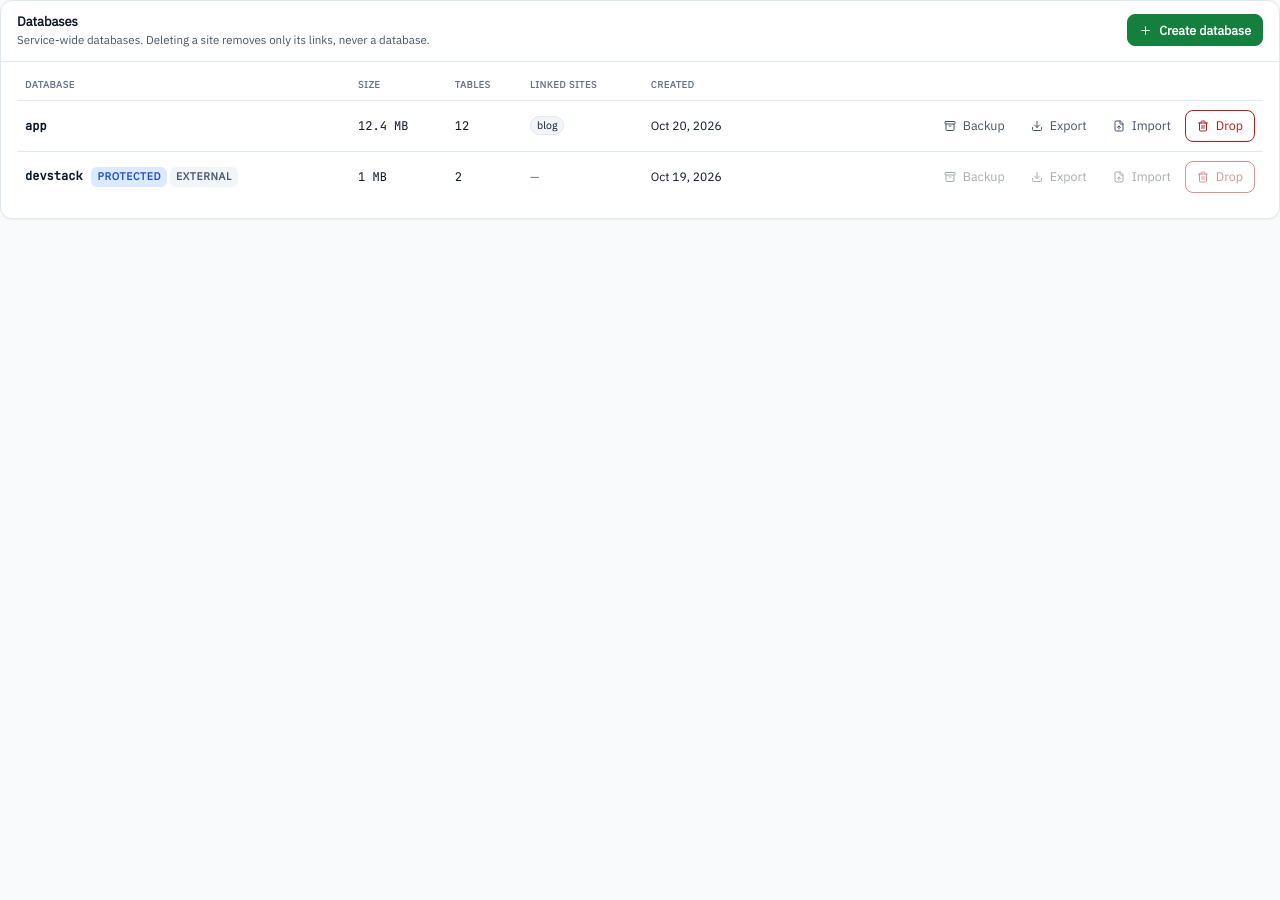
Test case: DatabaseTab › requires linked sites to be stopped before dropping
Click the button with aria-label "drop app": (1220, 126) top-left (1185, 110), bottom-right (1255, 142)
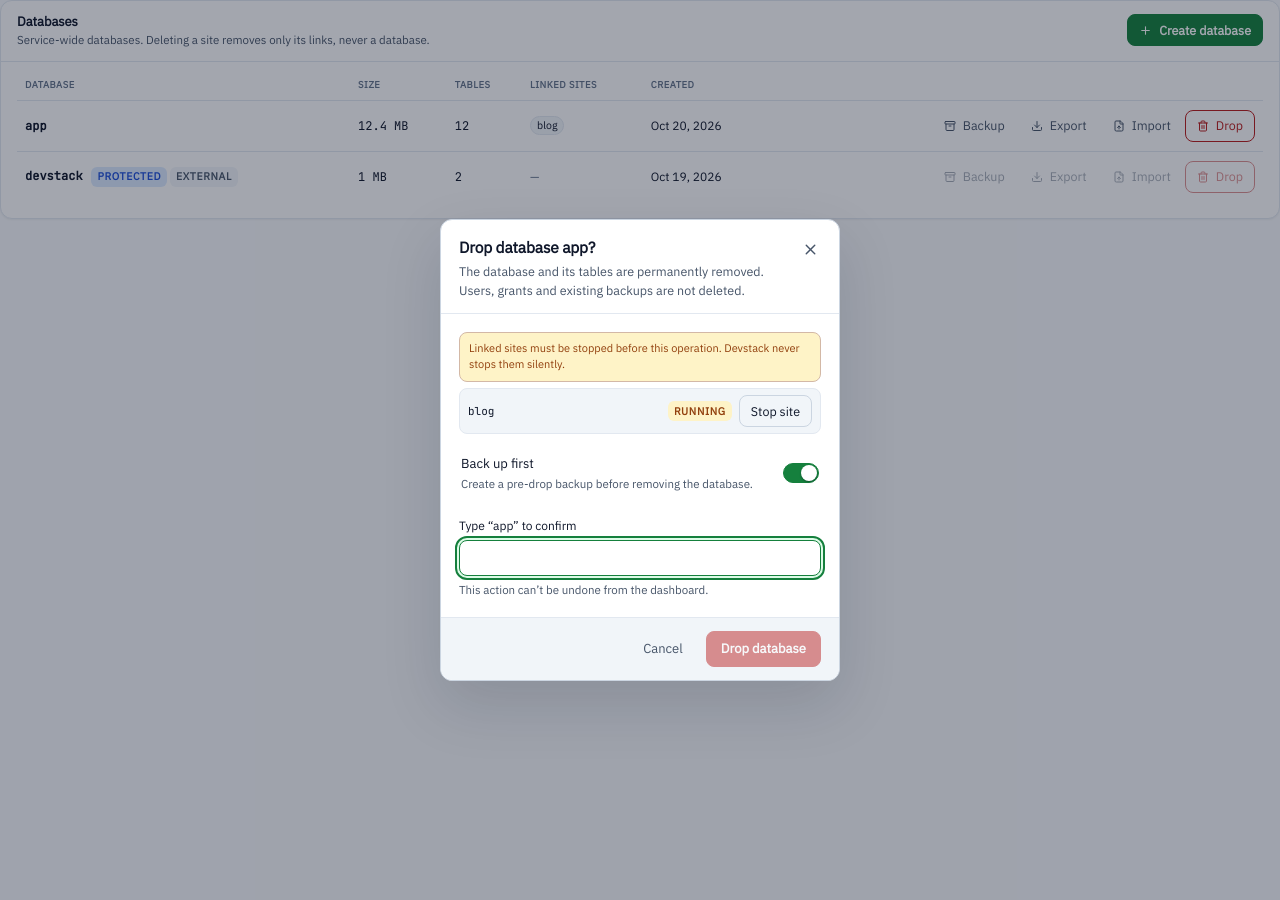
Expected: the text "blog" is shown, top-left (468, 404), bottom-right (494, 418)
In the field labelled "Type “app” to confirm": (640, 558) top-left (459, 540), bottom-right (821, 576), type "app"
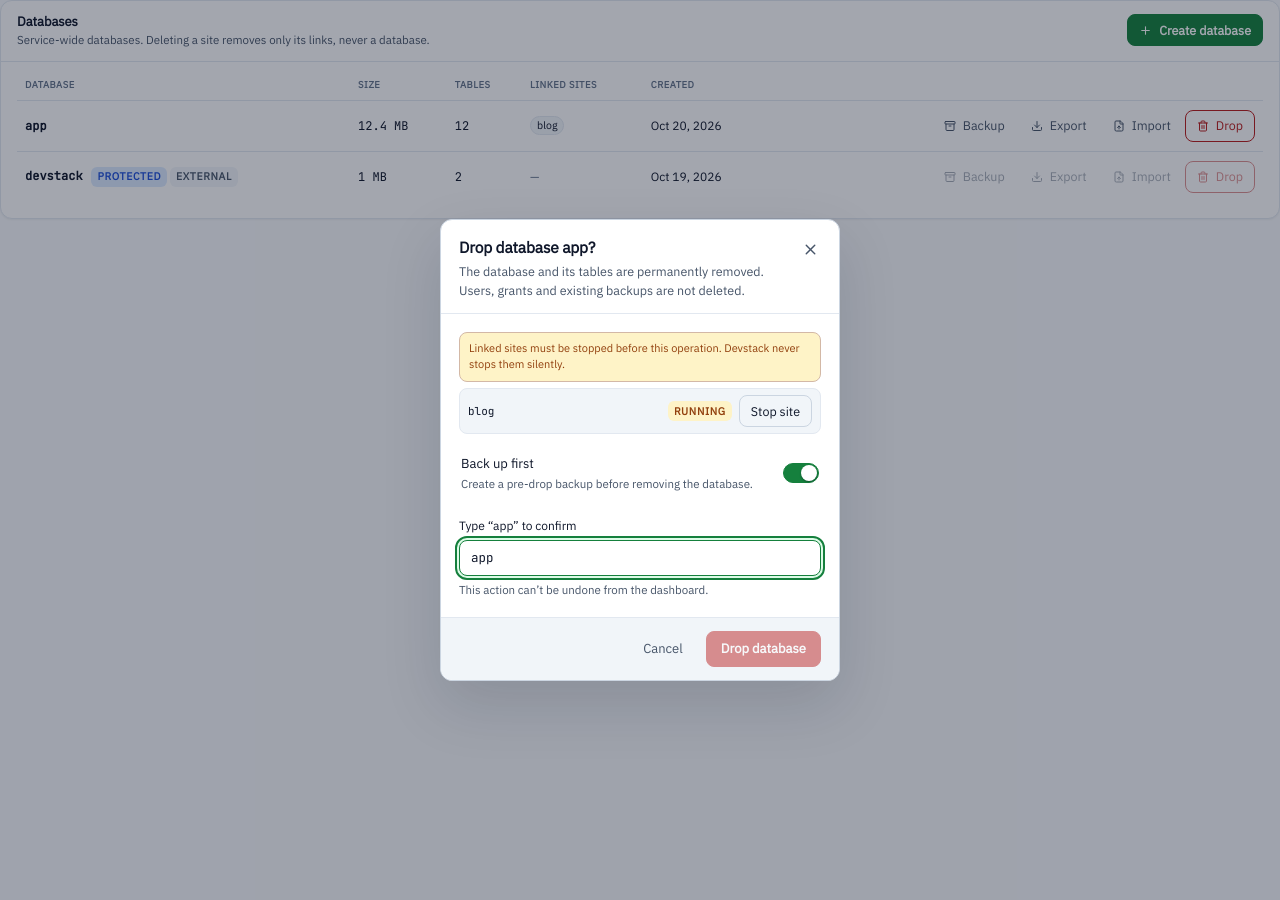
Expected: the button "Drop database" is disabled, top-left (706, 631), bottom-right (821, 667)
Click the button with aria-label "Stop site blog": (775, 411) top-left (739, 395), bottom-right (812, 427)
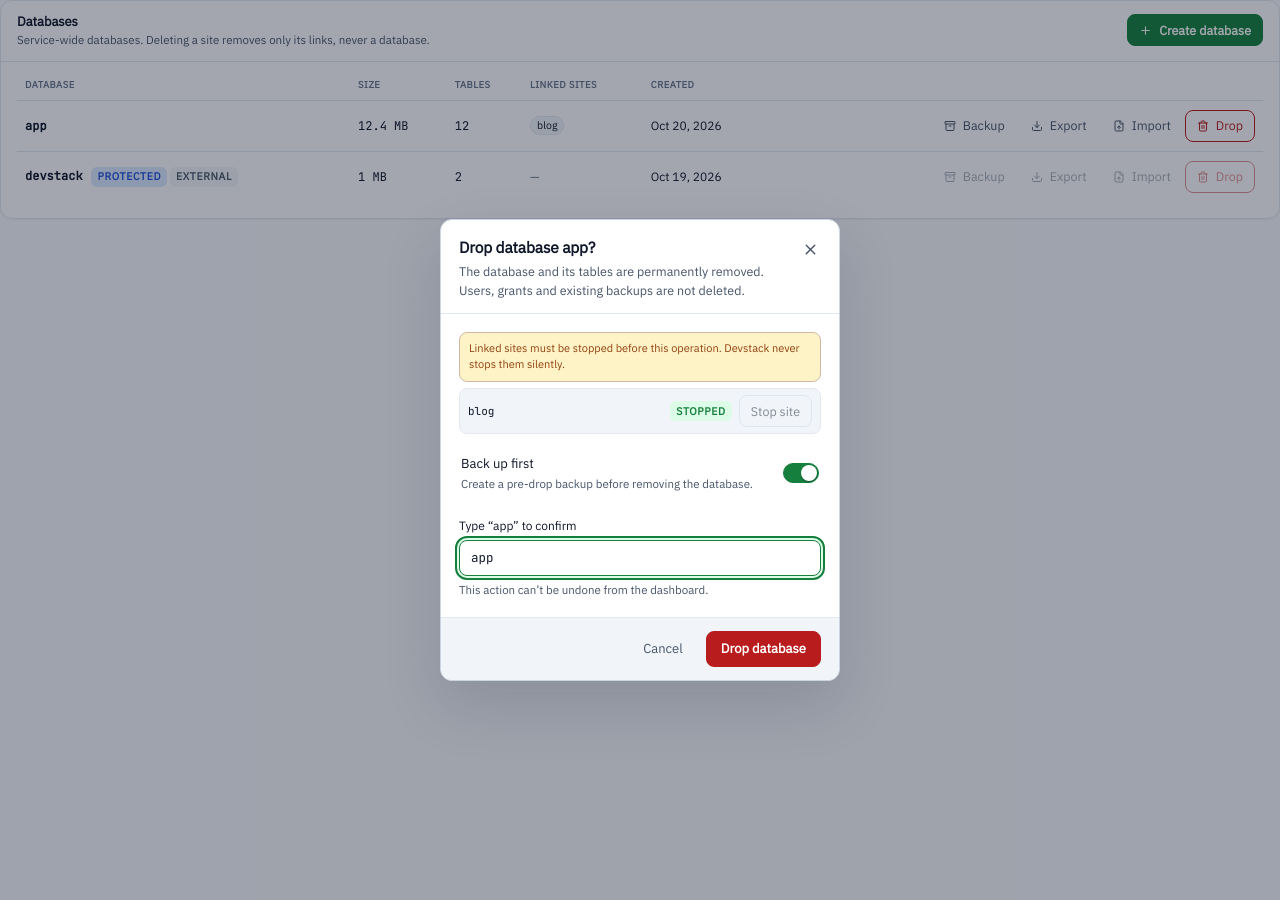
Expected: the button "Drop database" is enabled, top-left (706, 631), bottom-right (821, 667)
